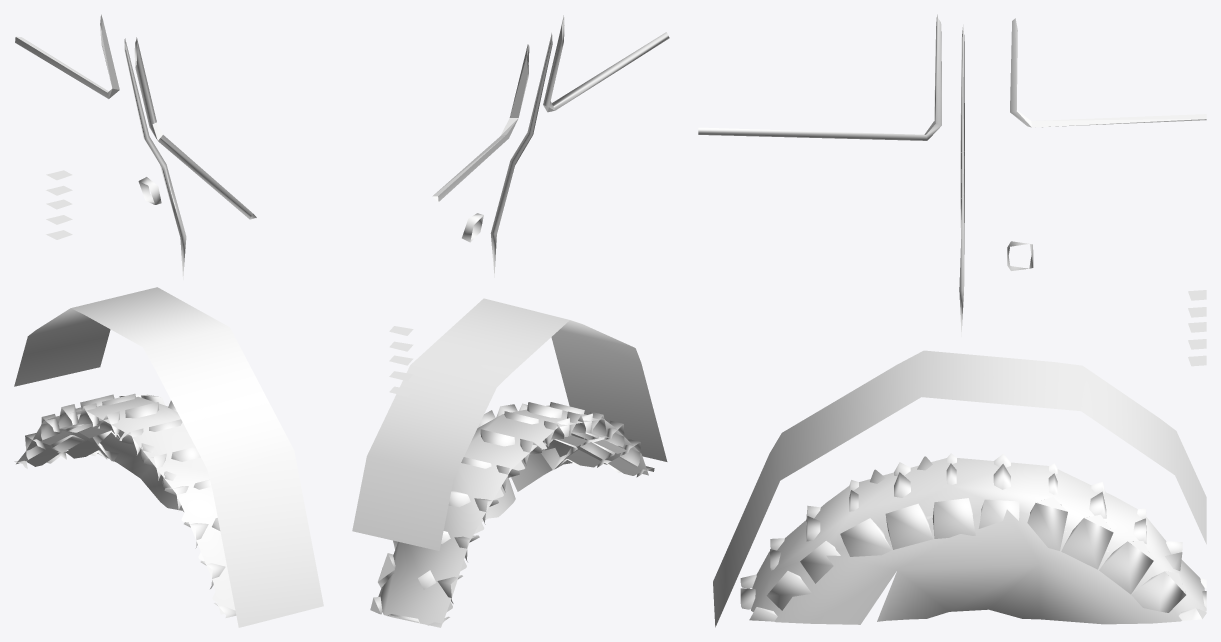
3 views of the same model, side by side, from view 1: azimuth 30°, elevation 25°; view 2: azimuth 150°, elevation 25°; view 3: azimuth 270°, elevation 25° (orthographic). The views are drawn at different scales.
Size of the model in its own units: 0.287 by 1.64 by 1.33.
Materials: 1 (1 with a texture image).
